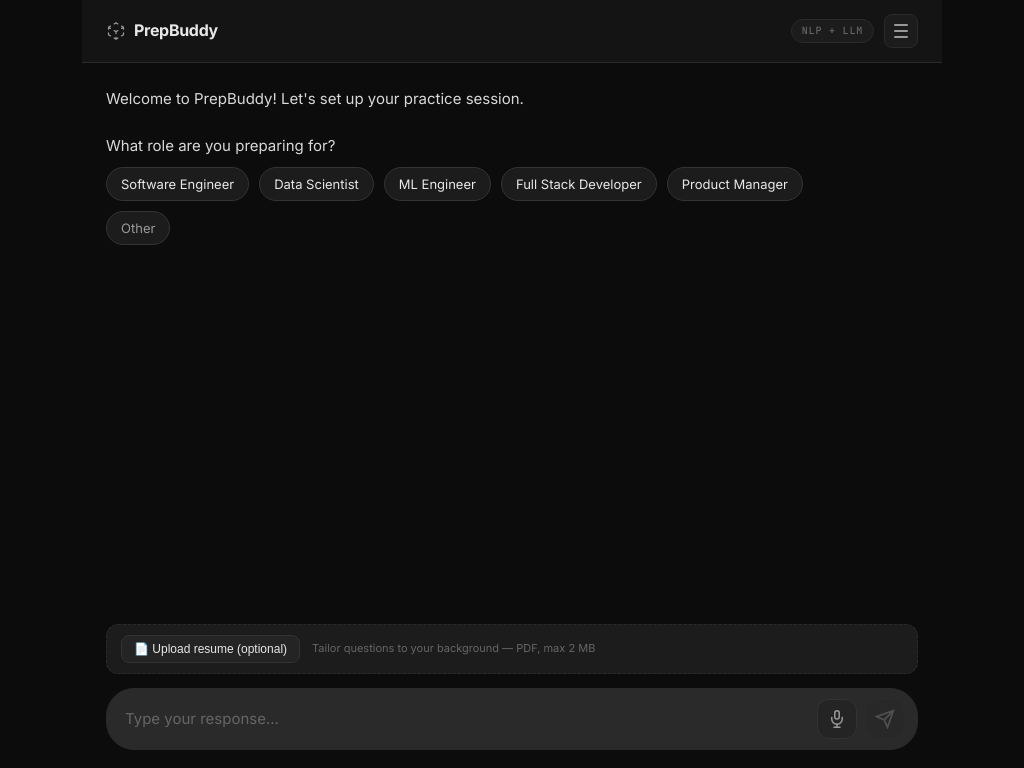
Test case: App setup quick replies › shows level quick reply chips after selecting a role
The image size is (1024, 768).
Click the button "Software Engineer". click: coordinates (178, 184)
box: [106,167,249,201]
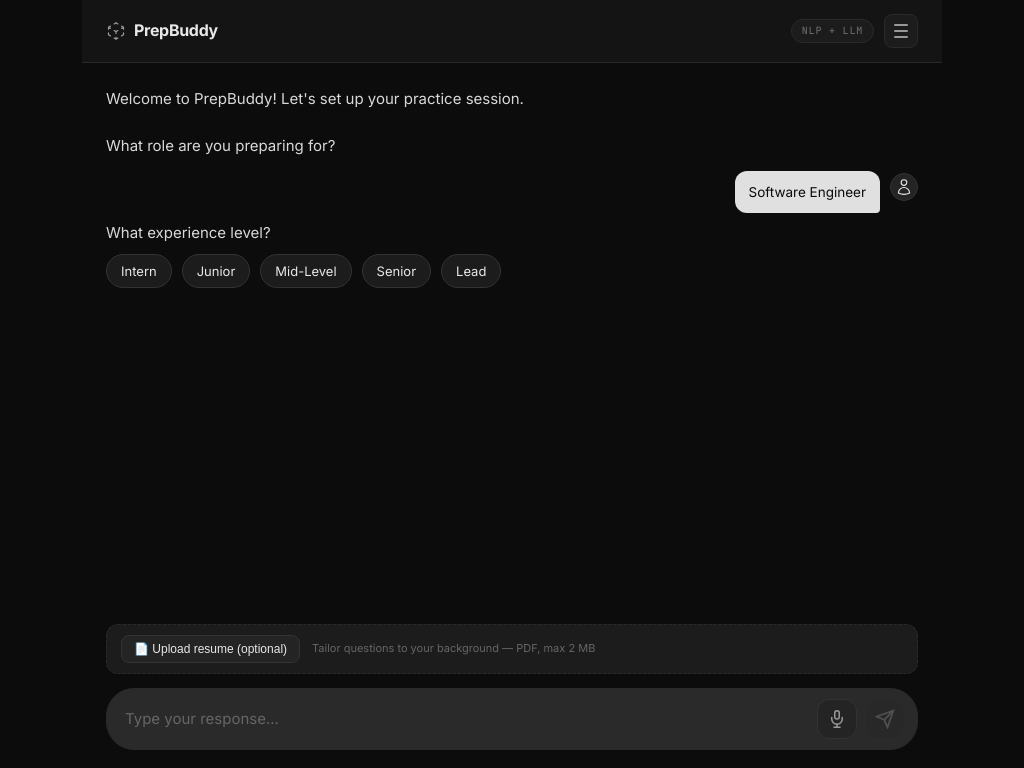
Result: the button "Intern" is shown at [106,254,172,288]
Result: the button "Junior" is shown at [182,254,250,288]
Result: the button "Lead" is shown at [441,254,501,288]
